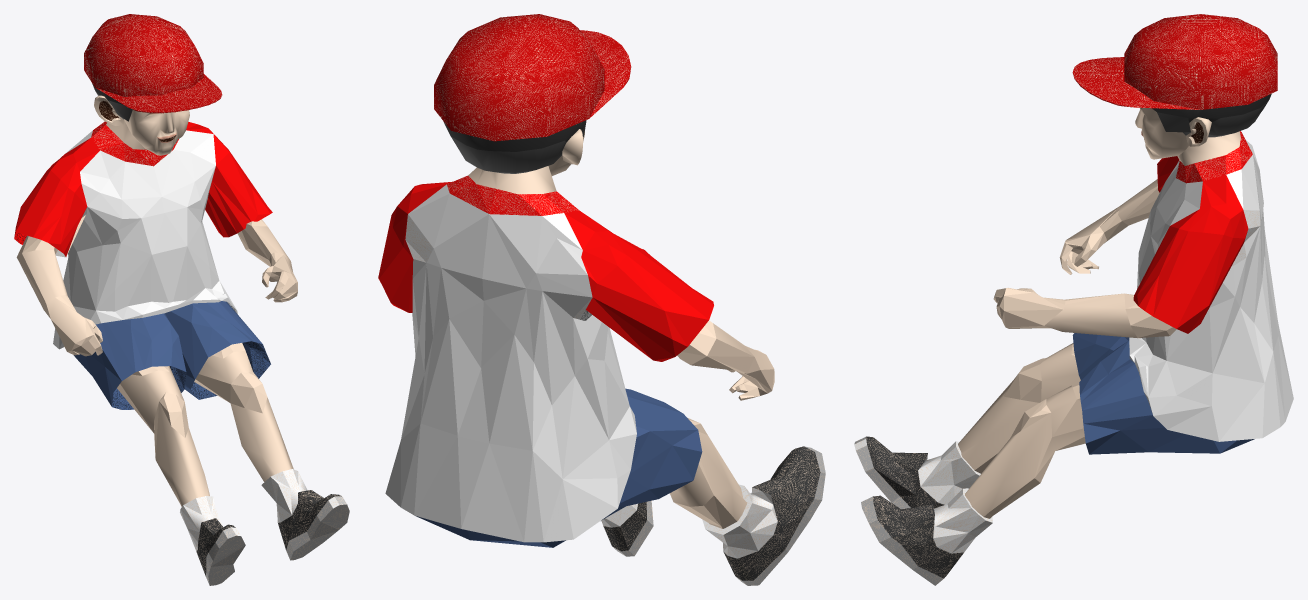
File: boy.dae
The picture shows the model from 3 angles, left to right: view 1: azimuth 30°, elevation 25°; view 2: azimuth 150°, elevation 25°; view 3: azimuth 270°, elevation 25°; orthographic projection. The views are drawn at different scales.
Visible parts, largest first — view 1: group_0 (×18); view 2: group_0 (×17); view 3: group_0 (×19).
Part boxes in pixels (x1,y1,x2,y2): group_0 (×18): (14, 14, 349, 585); group_0 (×17): (378, 14, 825, 585); group_0 (×19): (854, 14, 1293, 585).
Size of the model in its own units: 18.62 by 25.2 by 34.44.
